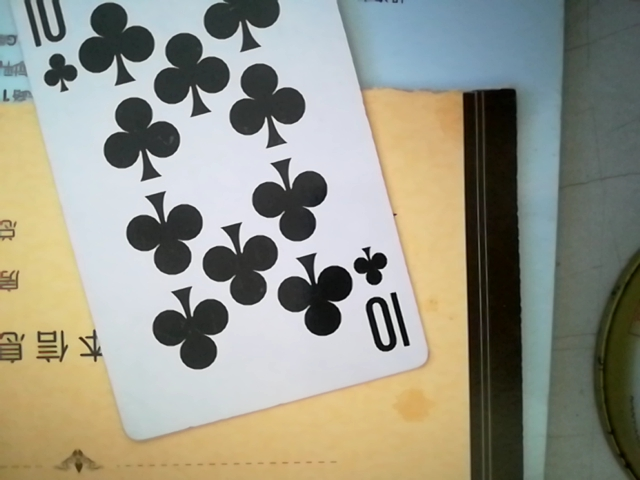mh 10: (6, 3, 436, 443)
